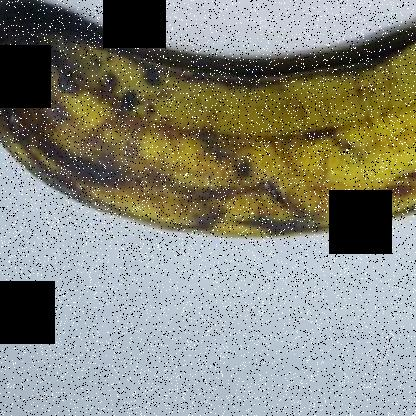overripe: (1, 1, 415, 264)
